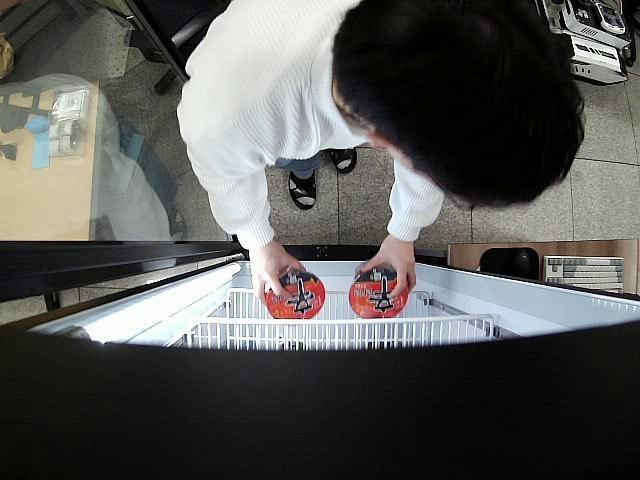01_ShinRamen_L: (350, 264, 410, 320), (264, 266, 326, 320)
